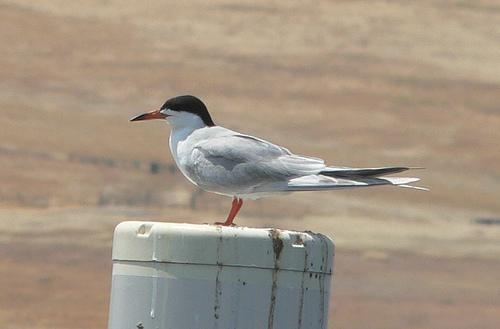bird: (129, 95, 428, 227)
